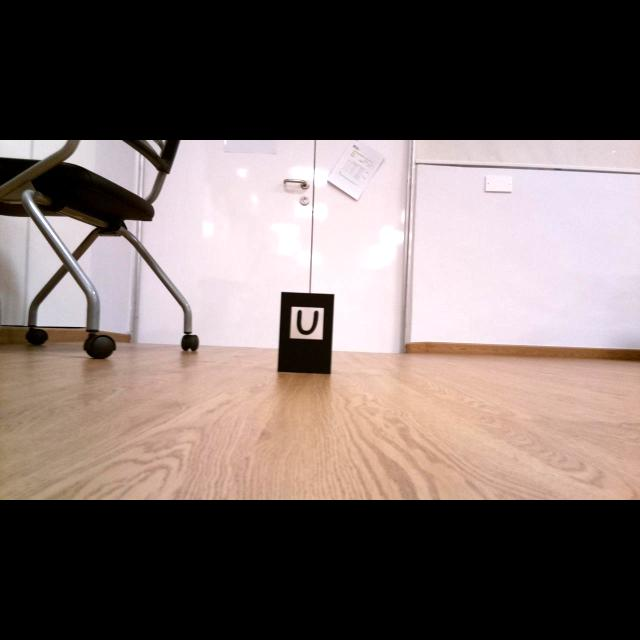U: (297, 309, 319, 335)
